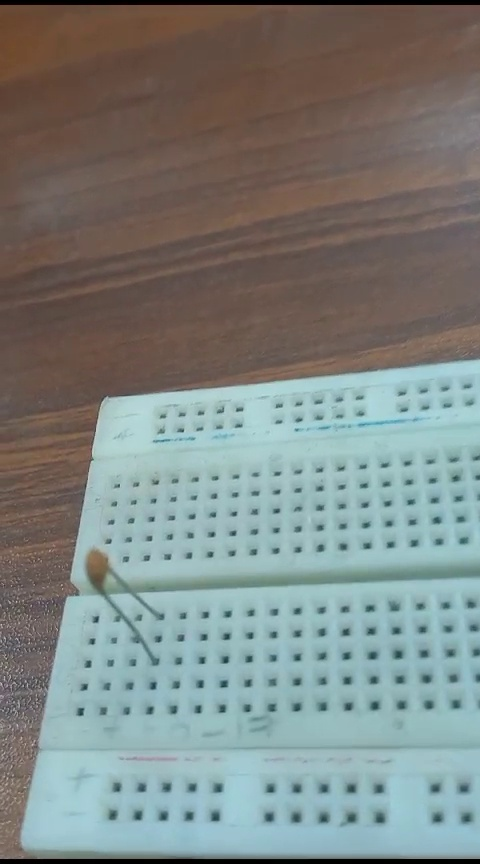ceramic capacitor: (88, 544, 176, 659)
